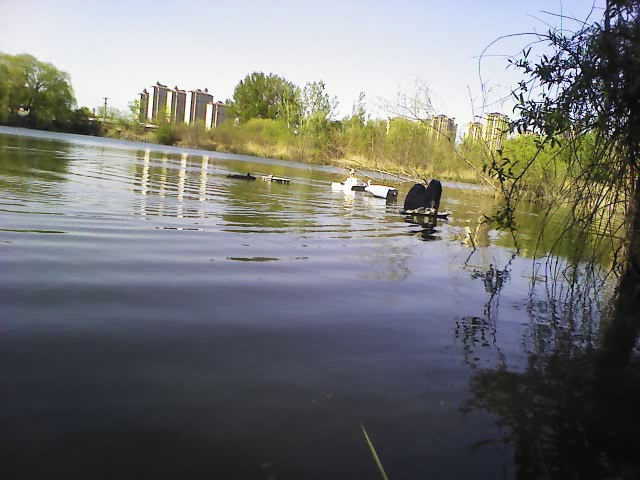aircraft_carrier: (261, 164, 297, 189)
boat: (328, 165, 367, 197)
iceberg: (366, 180, 400, 204)
rock: (402, 176, 447, 211)
submarine: (225, 167, 260, 181)
warship: (400, 203, 454, 220)
